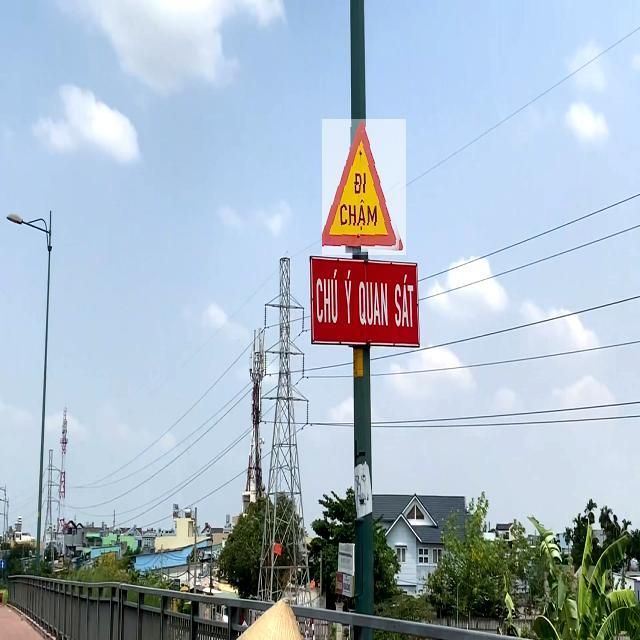W-245a: (322, 119, 406, 255)
